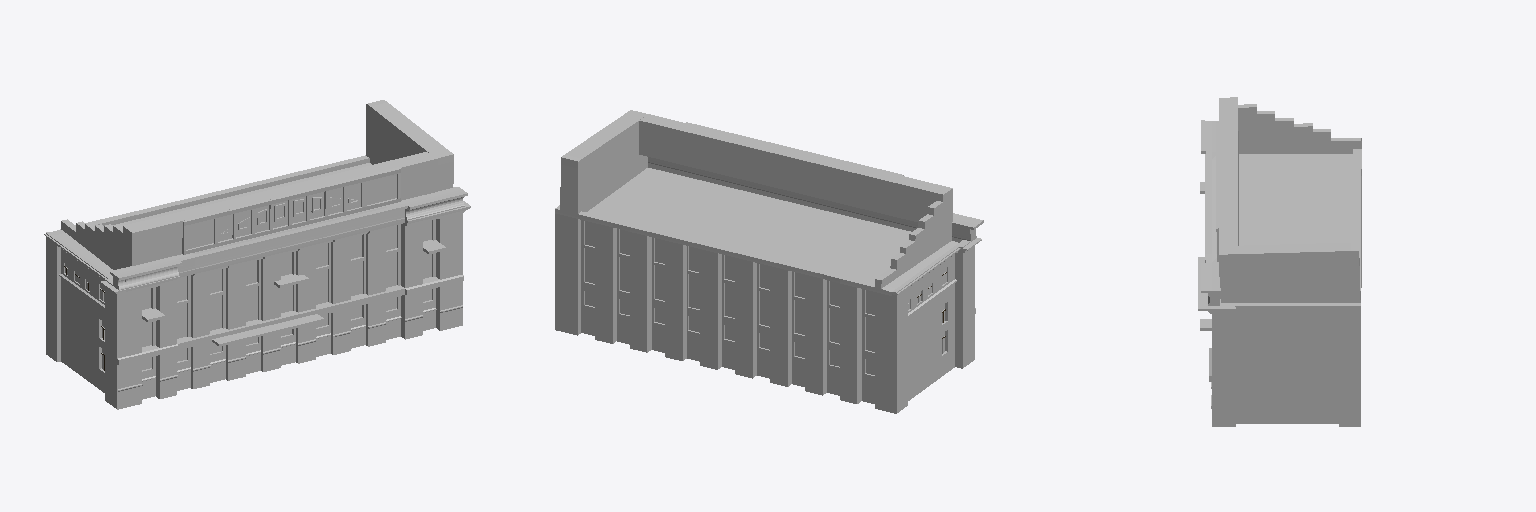
The model's file is voronin.obj.
3 views of the same model, side by side, from view 1: azimuth 30°, elevation 25°; view 2: azimuth 150°, elevation 25°; view 3: azimuth 270°, elevation 25° (orthographic).
Parts seen in each view (by area): view 1: Cube, Cube.001; view 2: Cube; view 3: Cube.
Part boxes in pixels (x1,y1,x2,y2): Cube: (44,100,470,409); Cube.001: (182,167,400,254); Cube: (555,110,983,413); Cube: (1198,97,1361,426).
Bounding box in the file's own units: 3.98 × 1.85 × 1.59.